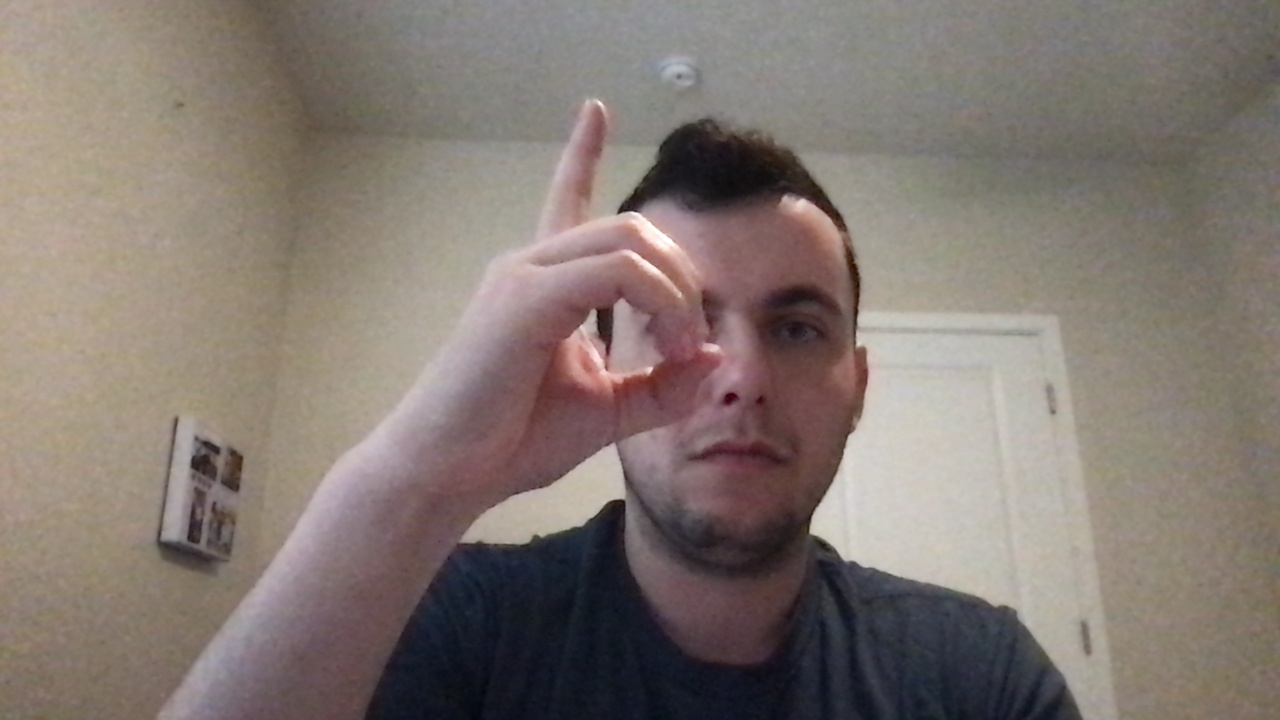d: (384, 94, 733, 502)
